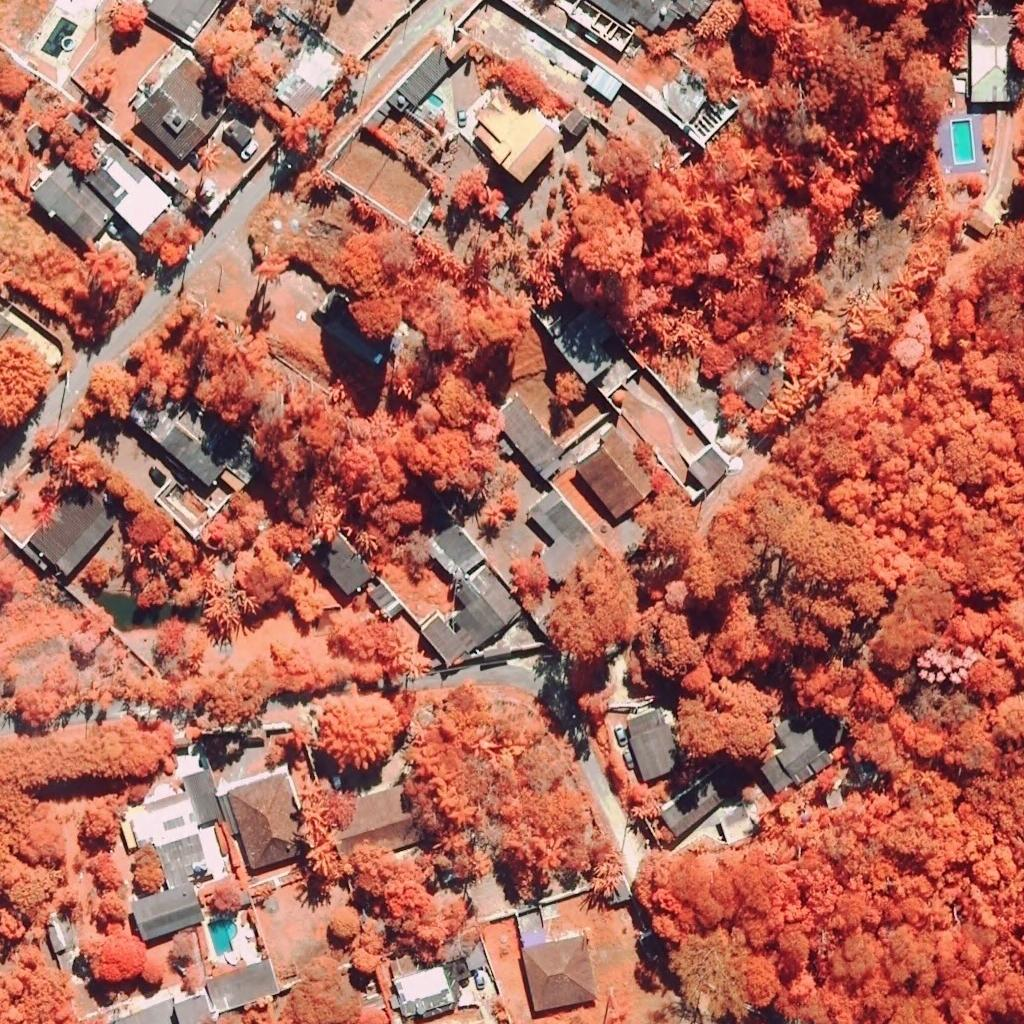pool: (208, 919, 237, 956), (953, 120, 973, 162), (426, 93, 443, 108)
